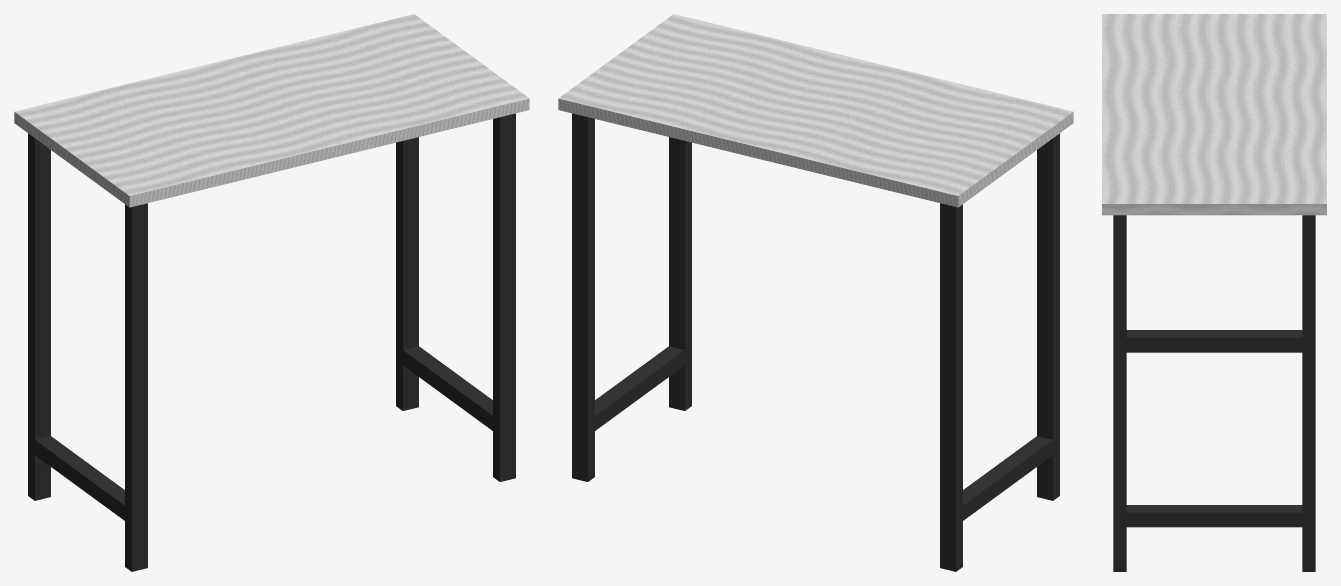
3 renders of one model, left to right at view 1: azimuth 30°, elevation 25°; view 2: azimuth 150°, elevation 25°; view 3: azimuth 270°, elevation 25°, orthographic. The views are drawn at different scales.
Parts seen in each view (by area): view 1: 1 tabletop, 2 left_front_leg, 4 right_front_leg, 3 left_back_leg, 5 right_back_leg, 6 left_lower_bar, 7 right_lower_bar; view 2: 1 tabletop, 5 right_back_leg, 3 left_back_leg, 2 left_front_leg, 4 right_front_leg, 7 right_lower_bar, 6 left_lower_bar; view 3: 1 tabletop, 5 right_back_leg, 4 right_front_leg, 7 right_lower_bar, 6 left_lower_bar.
Boxes of the visible parts, box(x1,y1,x2,y2) form: 1 tabletop: box(14, 14, 529, 207); 2 left_front_leg: box(125, 203, 147, 571); 4 right_front_leg: box(493, 113, 515, 481); 3 left_back_leg: box(28, 133, 50, 500); 5 right_back_leg: box(396, 137, 418, 410); 6 left_lower_bar: box(31, 436, 128, 522); 7 right_lower_bar: box(403, 346, 496, 433); 1 tabletop: box(558, 14, 1073, 207); 5 right_back_leg: box(572, 113, 594, 481); 3 left_back_leg: box(940, 203, 962, 571); 2 left_front_leg: box(1037, 133, 1059, 500); 4 right_front_leg: box(669, 137, 691, 410); 7 right_lower_bar: box(591, 346, 688, 433); 6 left_lower_bar: box(959, 436, 1052, 522); 1 tabletop: box(1102, 14, 1326, 215); 5 right_back_leg: box(1302, 215, 1315, 571); 4 right_front_leg: box(1113, 215, 1126, 571); 7 right_lower_bar: box(1120, 505, 1308, 527); 6 left_lower_bar: box(1126, 330, 1302, 352).
Size of the model in its own units: 0.8001 by 0.73 by 0.4001.
Materials: 2 (1 with a texture image).
